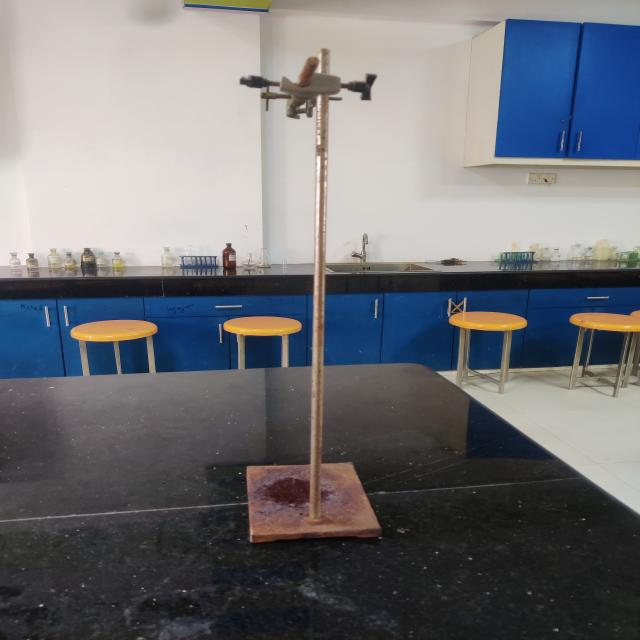Burette_Stands: (208, 37, 406, 560)
